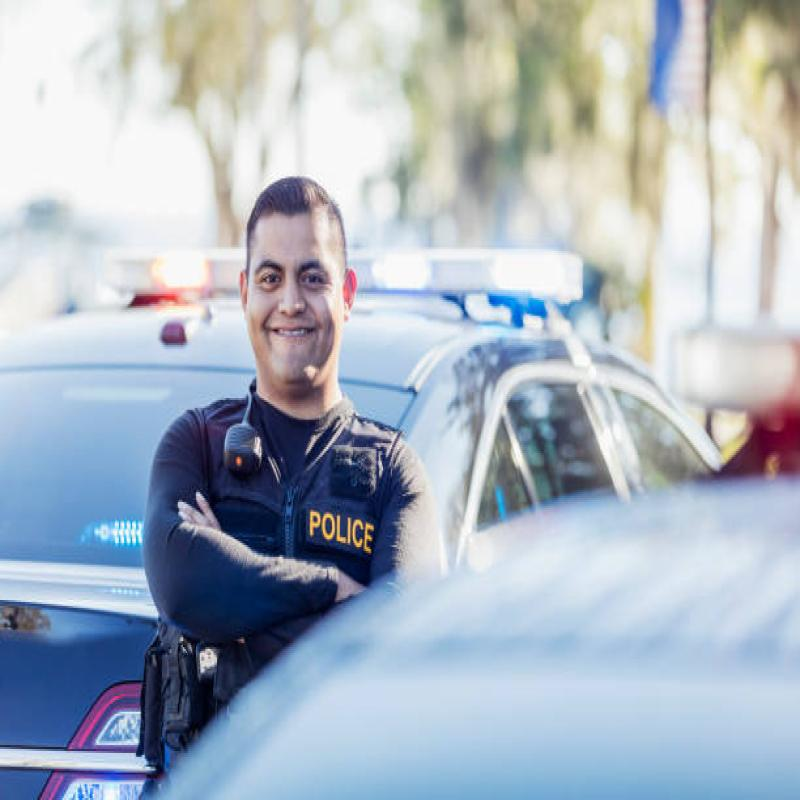AmbulanceSiren: (99, 212, 615, 351)
